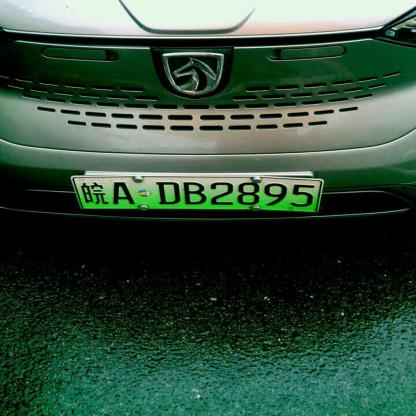lp: (72, 178, 318, 211)
